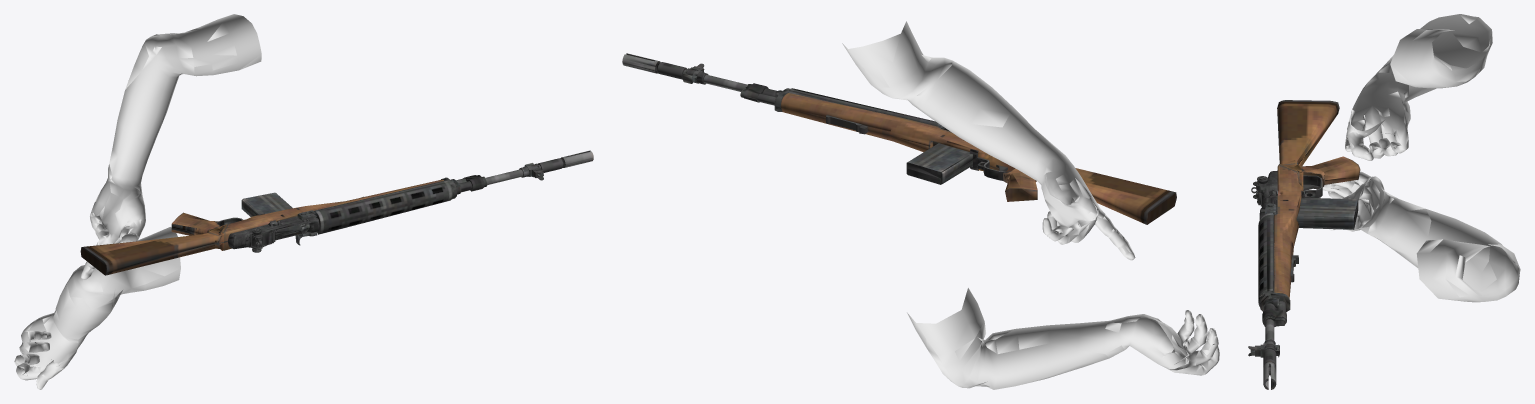
Rendered from TST_M14.glb.
3 views of the same model, side by side, from view 1: azimuth 30°, elevation 25°; view 2: azimuth 150°, elevation 25°; view 3: azimuth 270°, elevation 25° (orthographic). The views are drawn at different scales.
Parts seen in each view (by area): view 1: Stance M14 Hold, M14 Body, M14 Magazine; view 2: Stance M14 Hold, M14 Body, M14 Magazine; view 3: Stance M14 Hold, M14 Body, M14 Magazine.
Boxes of the visible parts, x1,y1,x2,y2 form: Stance M14 Hold: [14, 14, 261, 389]; M14 Body: [80, 150, 593, 275]; M14 Magazine: [241, 192, 292, 216]; Stance M14 Hold: [842, 21, 1219, 389]; M14 Body: [622, 53, 1176, 224]; M14 Magazine: [906, 143, 972, 184]; Stance M14 Hold: [1322, 14, 1520, 302]; M14 Body: [1248, 100, 1360, 389]; M14 Magazine: [1296, 197, 1358, 229].
Size of the model in its own units: 48.62 by 24.36 by 17.91.
3 materials, 3 textured.
